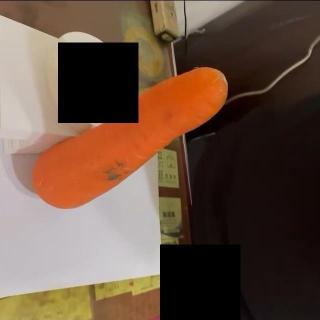carrot: (28, 66, 230, 210)
